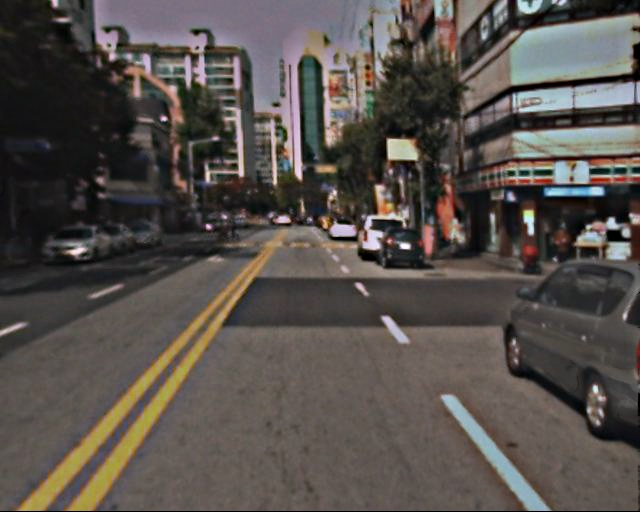person: (550, 216, 577, 280), (229, 212, 242, 244)
